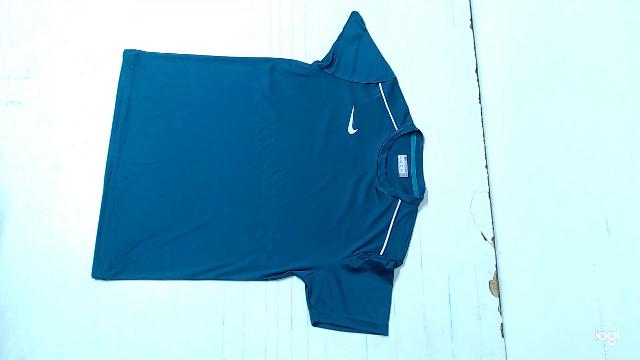new-garment: (92, 11, 425, 335)
